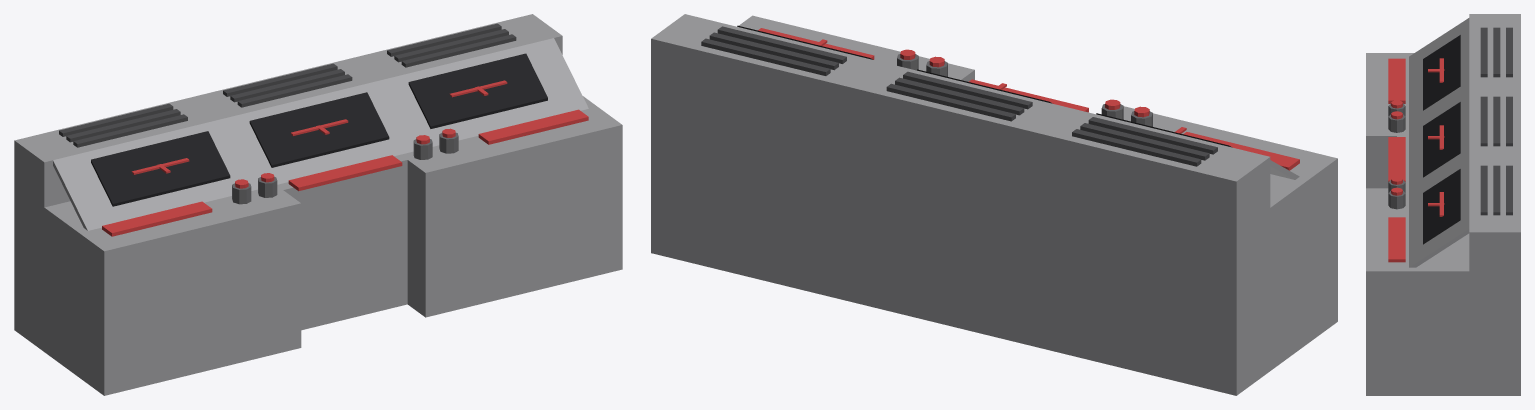
Rendered from vge_targeting_console.obj.
The picture shows the model from 3 angles, left to right: view 1: azimuth 30°, elevation 25°; view 2: azimuth 150°, elevation 25°; view 3: azimuth 270°, elevation 25°; orthographic projection. The views are drawn at different scales.
Visible parts, largest first — view 1: vge_targeting_console_2, vge_targeting_console_1, vge_targeting_console_0, vge_targeting_console_13, vge_targeting_console_3, vge_targeting_console_17, vge_targeting_console_14, vge_targeting_console_20, vge_targeting_console_24, vge_targeting_console_23, vge_targeting_console_25, vge_targeting_console_10 (+8 smaller); view 2: vge_targeting_console_0, vge_targeting_console_3, vge_targeting_console_1, vge_targeting_console_2, vge_targeting_console_6, vge_targeting_console_9, vge_targeting_console_12, vge_targeting_console_5, vge_targeting_console_8, vge_targeting_console_11, vge_targeting_console_7, vge_targeting_console_4 (+2 smaller); view 3: vge_targeting_console_0, vge_targeting_console_3, vge_targeting_console_13, vge_targeting_console_2, vge_targeting_console_1, vge_targeting_console_17, vge_targeting_console_14, vge_targeting_console_20, vge_targeting_console_25, vge_targeting_console_23, vge_targeting_console_24, vge_targeting_console_4 (+10 smaller).
Part boxes in pixels (x1,y1,x2,y2): vge_targeting_console_2: (407,112,622,317); vge_targeting_console_1: (86,190,301,395); vge_targeting_console_0: (14,96,604,382); vge_targeting_console_13: (53,38,588,230); vge_targeting_console_3: (14,14,562,207); vge_targeting_console_17: (249,92,389,167); vge_targeting_console_14: (91,131,230,206); vge_targeting_console_20: (408,53,547,128); vge_targeting_console_24: (288,155,402,191); vge_targeting_console_23: (102,201,212,236); vge_targeting_console_25: (478,109,588,144); vge_targeting_console_10: (401,34,516,67); vge_targeting_console_0: (651,90,1317,395); vge_targeting_console_3: (651,14,1270,232); vge_targeting_console_1: (1123,106,1337,335); vge_targeting_console_2: (739,15,974,81); vge_targeting_console_6: (1072,129,1201,166); vge_targeting_console_9: (886,83,1015,121); vge_targeting_console_12: (701,38,830,75); vge_targeting_console_5: (1080,123,1209,160); vge_targeting_console_8: (895,77,1024,115); vge_targeting_console_11: (709,32,838,70); vge_targeting_console_7: (903,71,1032,109); vge_targeting_console_4: (1088,117,1217,154); vge_targeting_console_0: (1397,53,1520,395); vge_targeting_console_3: (1469,14,1520,271); vge_targeting_console_13: (1409,18,1469,267); vge_targeting_console_2: (1366,188,1396,395); vge_targeting_console_1: (1366,53,1396,188); vge_targeting_console_17: (1423,102,1460,177); vge_targeting_console_14: (1423,35,1460,110); vge_targeting_console_20: (1423,169,1460,244); vge_targeting_console_25: (1388,217,1405,262); vge_targeting_console_23: (1388,58,1405,103); vge_targeting_console_24: (1388,137,1405,181); vge_targeting_console_4: (1480,27,1487,77).
Size of the model in its own units: 3 by 1.07 by 0.9.
